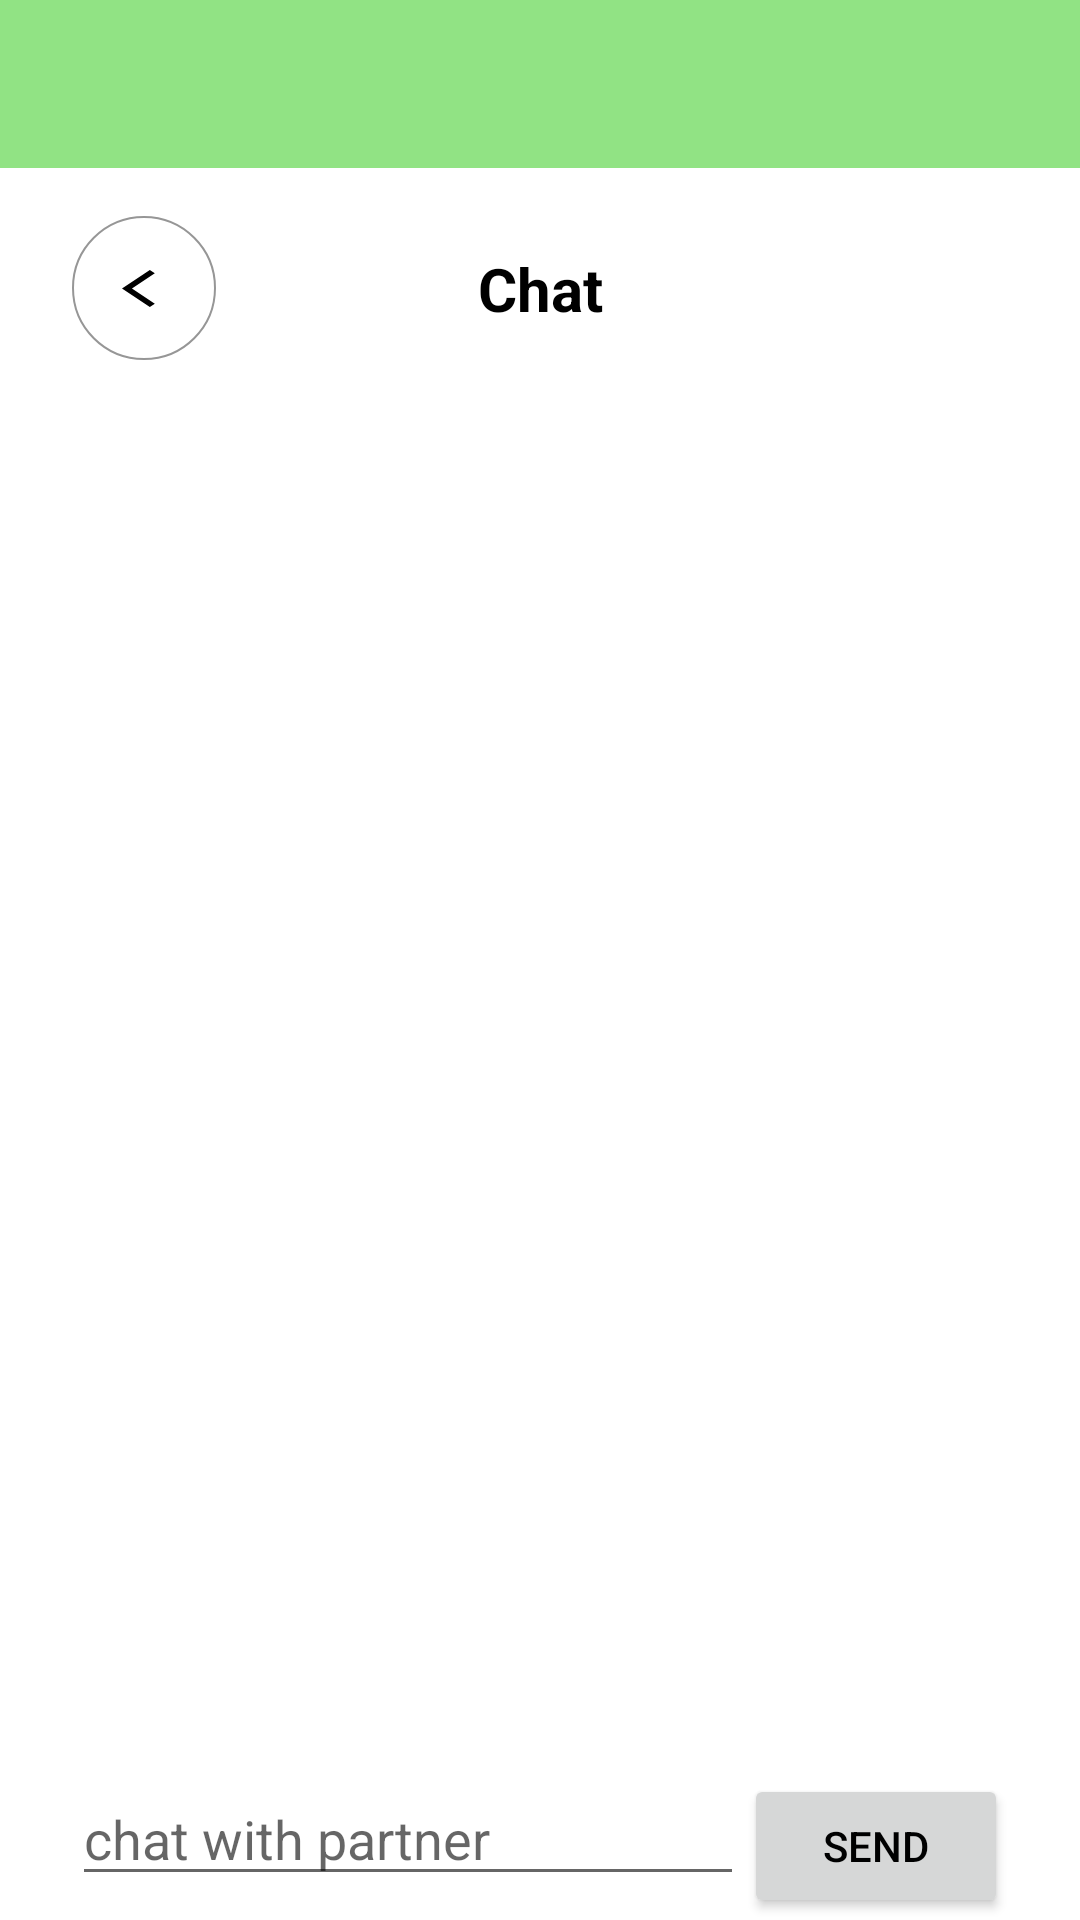

Locate icon controls on the screen. Image size 1080x1920, boxes as (x1, y1, x2, y2).
back: (72, 216, 216, 360)
